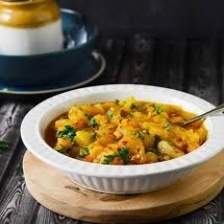sabzi: (44, 99, 209, 166)
